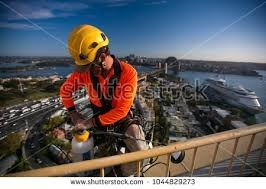helmet: (66, 23, 112, 67)
person with partial safety: (58, 23, 140, 132)
